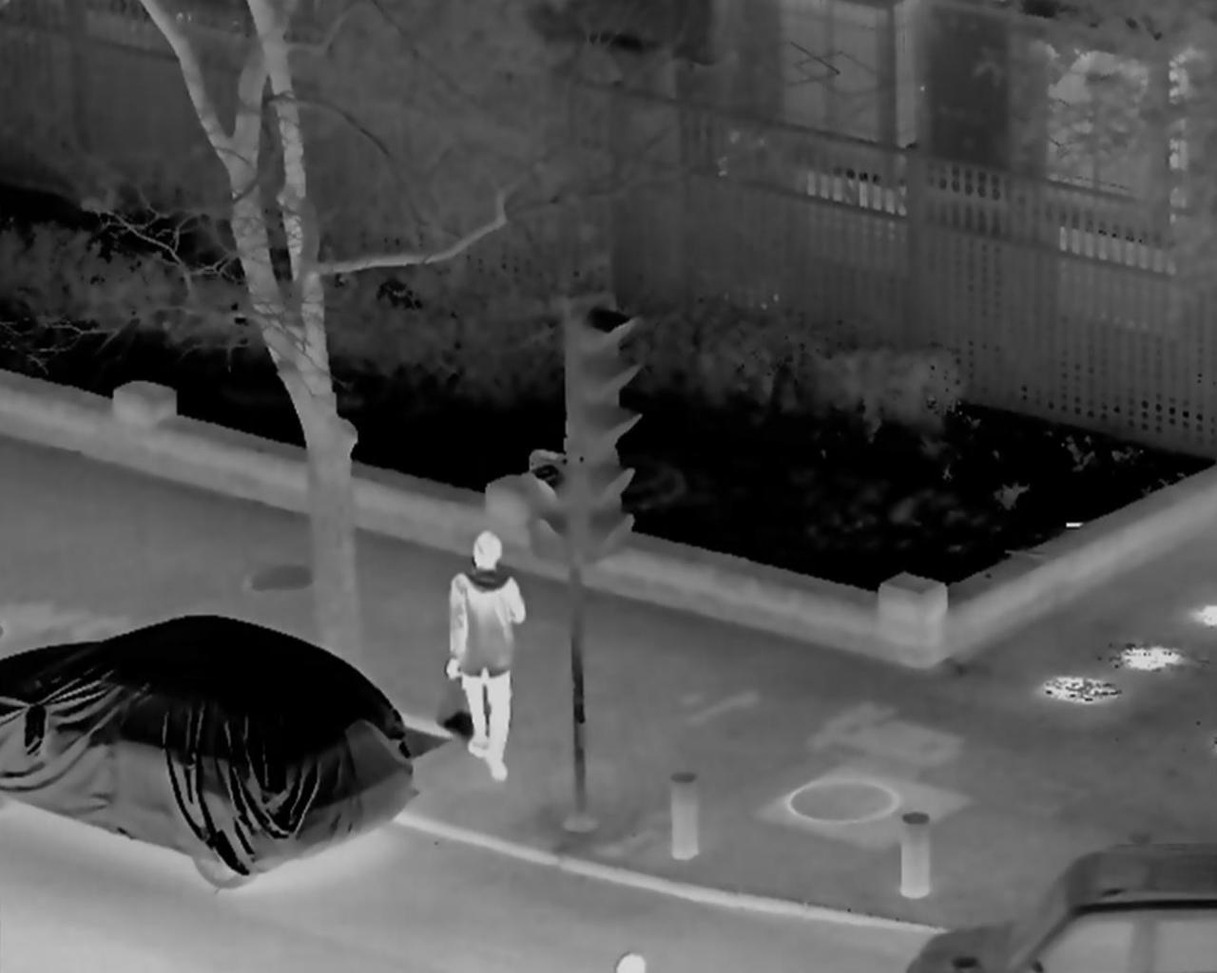person: (450, 532, 527, 779)
